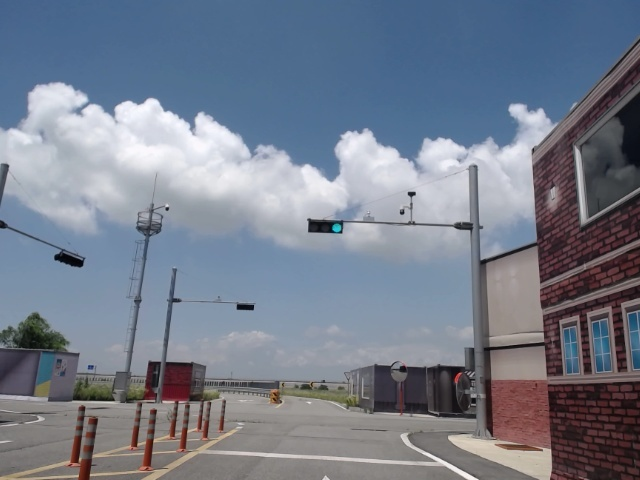green_3: (310, 220, 343, 233)
